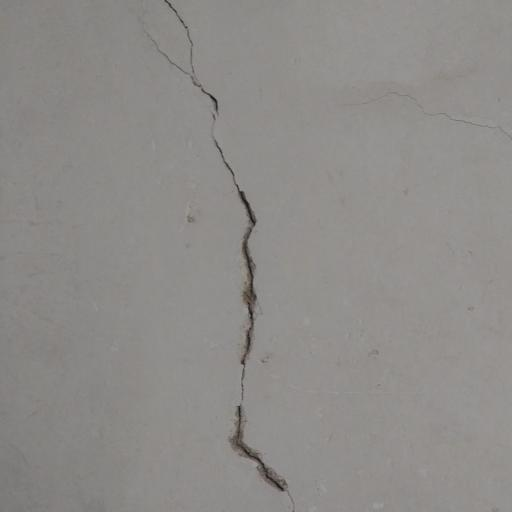major_crack: (132, 0, 299, 511)
